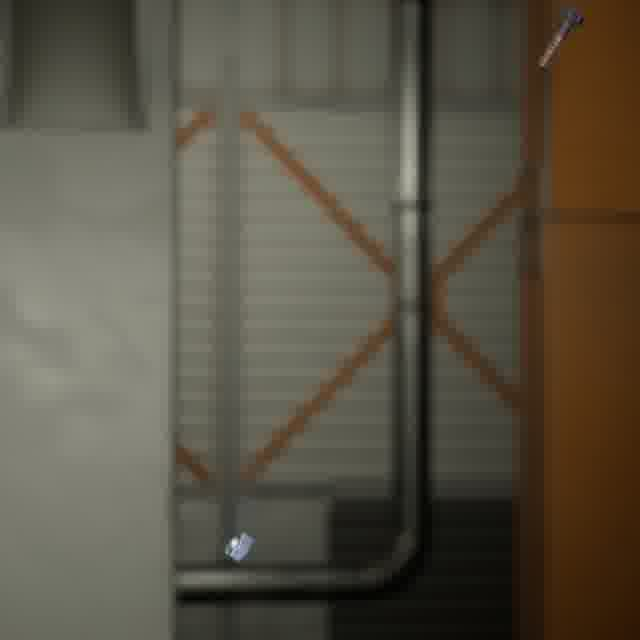bolt: (533, 0, 589, 73)
nut: (220, 526, 258, 565)
